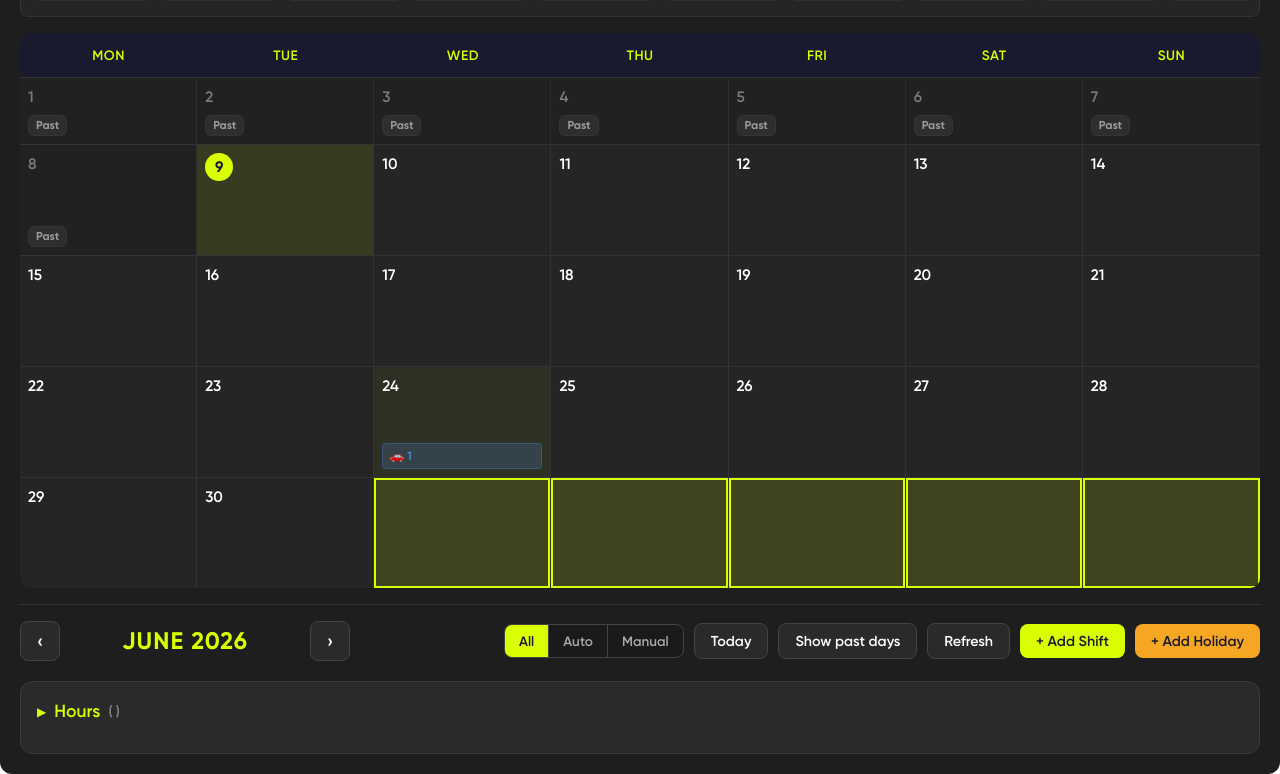
RosterCalendar generate roster CTA gate › H: shows Generate roster CTA when Review exists and the backend gate allows generation
(page scrolled)
Click the text "24": (463, 422) [374,367,551,477]
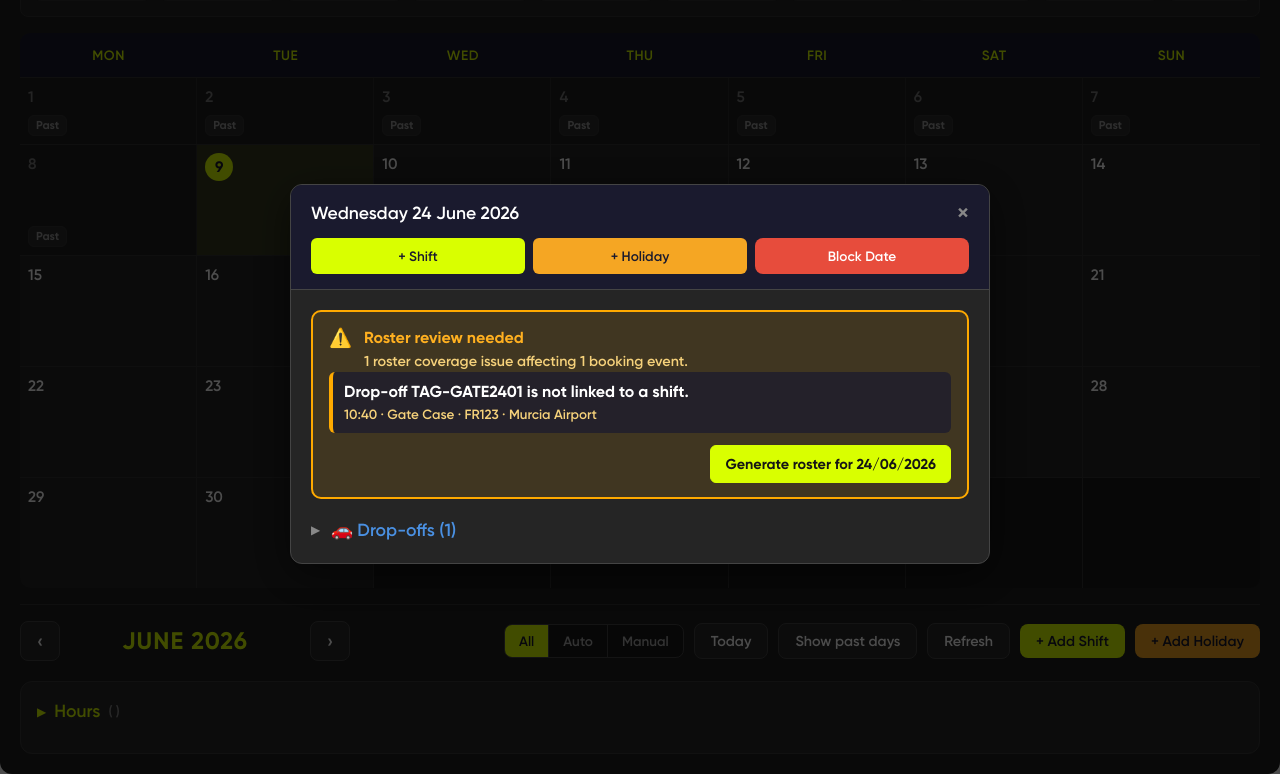
Expected: the text "Roster review needed" is shown 2 times
Expected: the button "Generate roster for 24/06/2026" is shown, [710,445,951,483]
